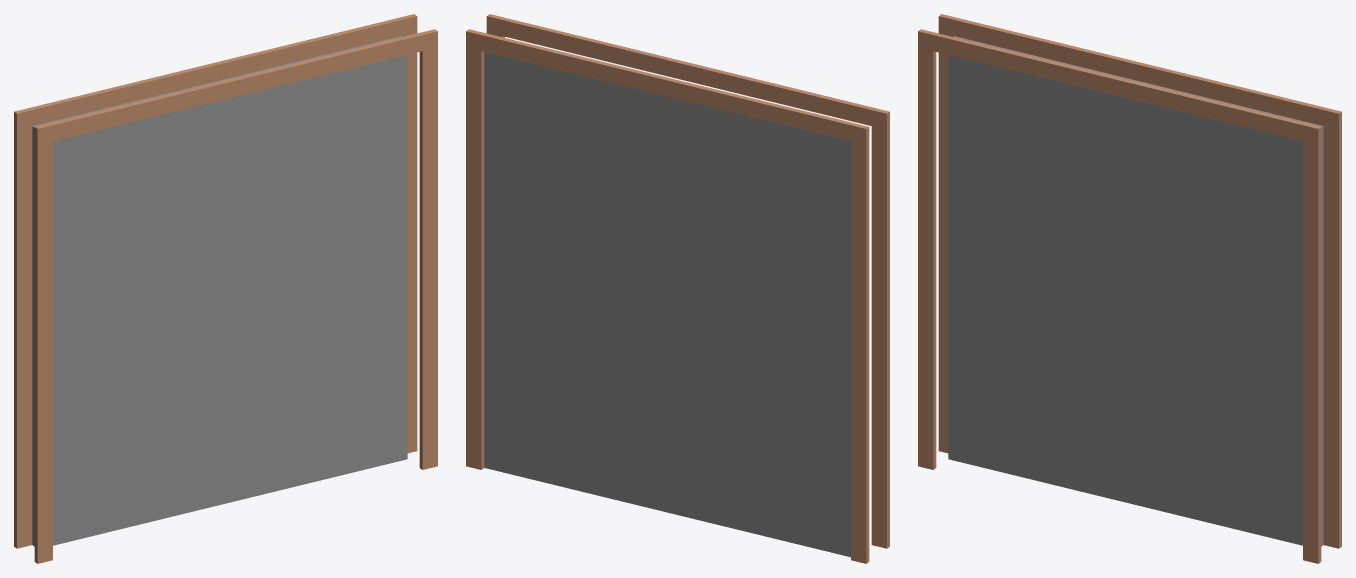
The model's file is double_door.fbx.
3 renders of one model, left to right at view 1: azimuth 30°, elevation 25°; view 2: azimuth 150°, elevation 25°; view 3: azimuth 330°, elevation 25°, orthographic.
Visible parts, largest first — view 1: Double_Flush_-_Unequal 72" x 78" [211553]; view 2: Double_Flush_-_Unequal 72" x 78" [211553]; view 3: Double_Flush_-_Unequal 72" x 78" [211553].
Part boxes in pixels (x1,y1,x2,y2): Double_Flush_-_Unequal 72" x 78" [211553]: (14, 14, 437, 563); Double_Flush_-_Unequal 72" x 78" [211553]: (466, 14, 889, 563); Double_Flush_-_Unequal 72" x 78" [211553]: (918, 14, 1341, 563).
Bounding box in the file's own units: 198 × 206 × 20.32.
